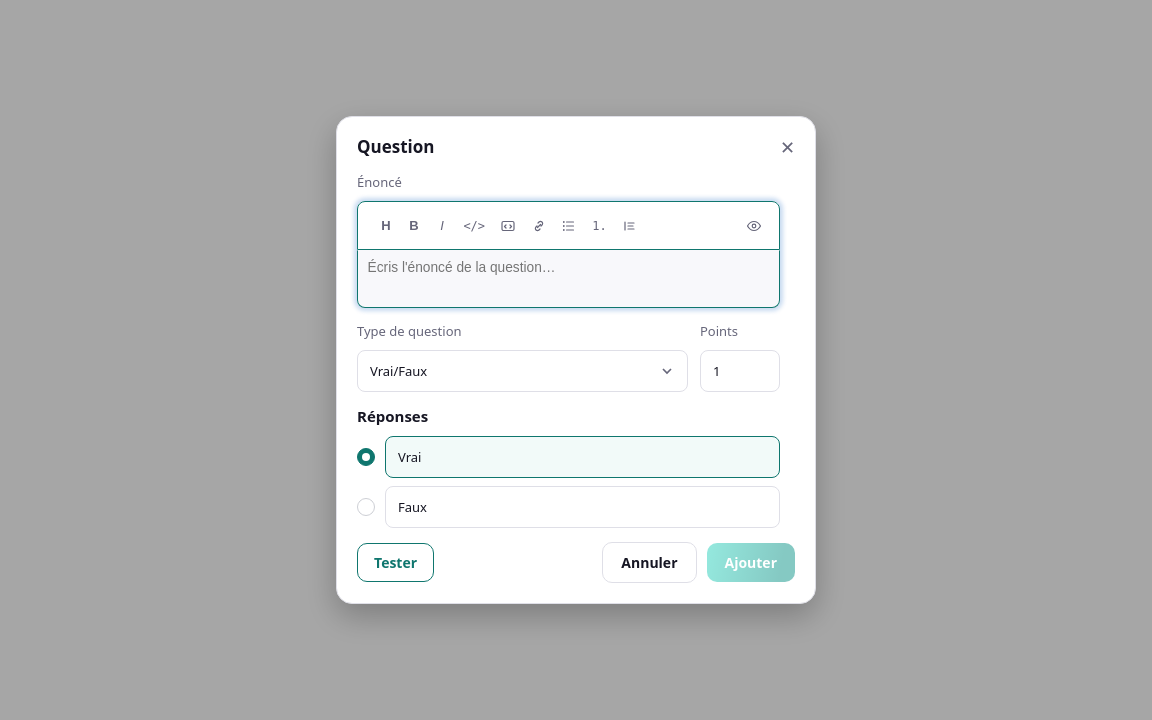
QuestionFormBody › true_false valide dès que l'énoncé est saisi (options figées)
The image size is (1152, 720).
Expected: the field named "Réponse 1" is shown, [385,436,780,478]
Expected: the field named "Réponse 2" is shown, [385,486,780,528]
In the text box named "Éditeur Markdown": x=568, y=279 [357,250,780,308], type "Le ciel est bleu ?"
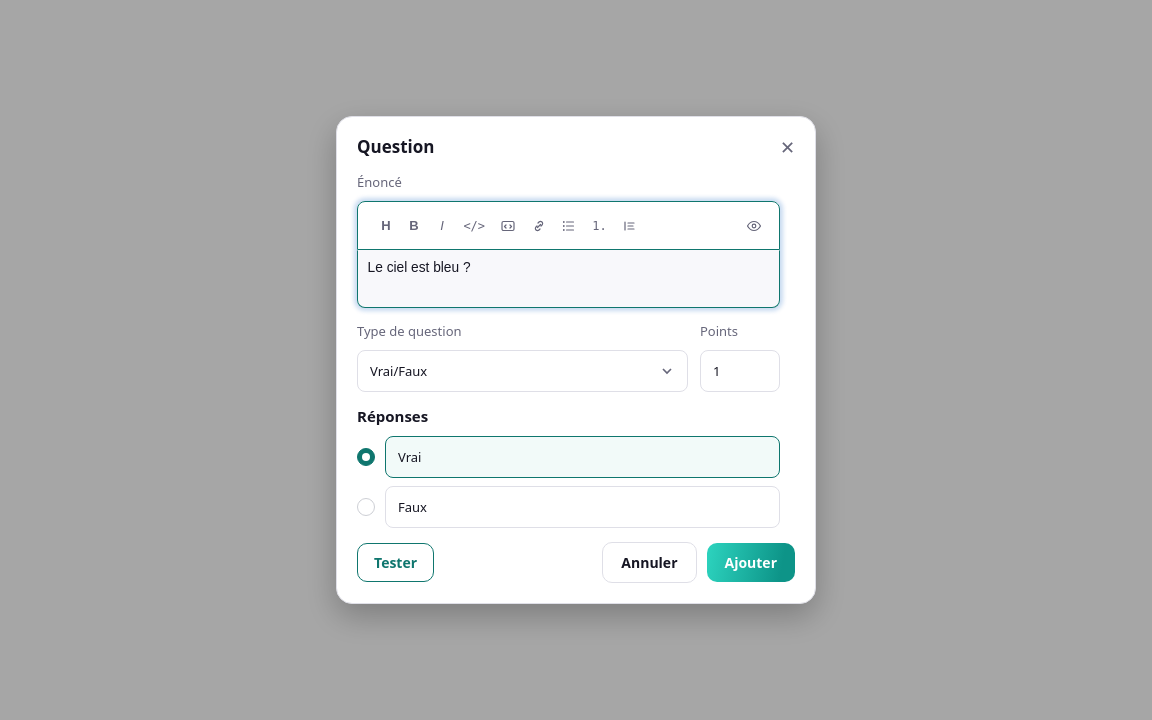
Now the button "Ajouter" is enabled, box [706,543,795,582]
